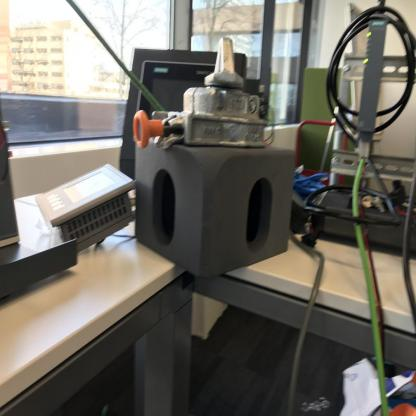CornerCasting: (129, 136, 296, 279)
Twistlock: (132, 35, 276, 155)
